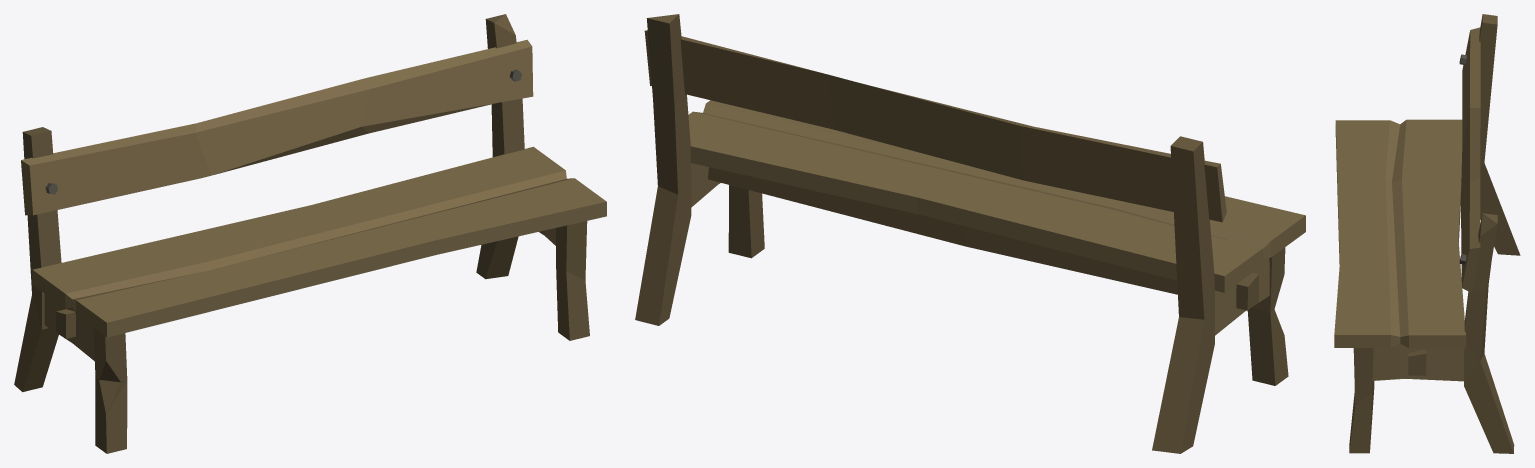
The model's file is Bench_2.fbx.
The picture shows the model from 3 angles, left to right: view 1: azimuth 30°, elevation 25°; view 2: azimuth 150°, elevation 25°; view 3: azimuth 270°, elevation 25°; orthographic projection. The views are drawn at different scales.
Parts seen in each view (by area): view 1: Bench_2; view 2: Bench_2; view 3: Bench_2.
Boxes of the visible parts, box(x1,y1,x2,y2) form: Bench_2: box(14, 14, 606, 453); Bench_2: box(635, 14, 1305, 453); Bench_2: box(1334, 14, 1520, 453).
Size of the model in its own units: 178 by 88.15 by 64.26.
